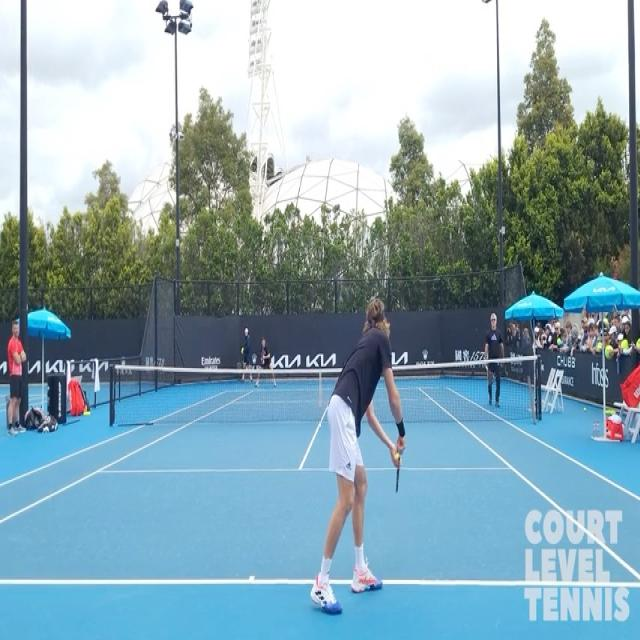serve_ready: (309, 297, 436, 630)
